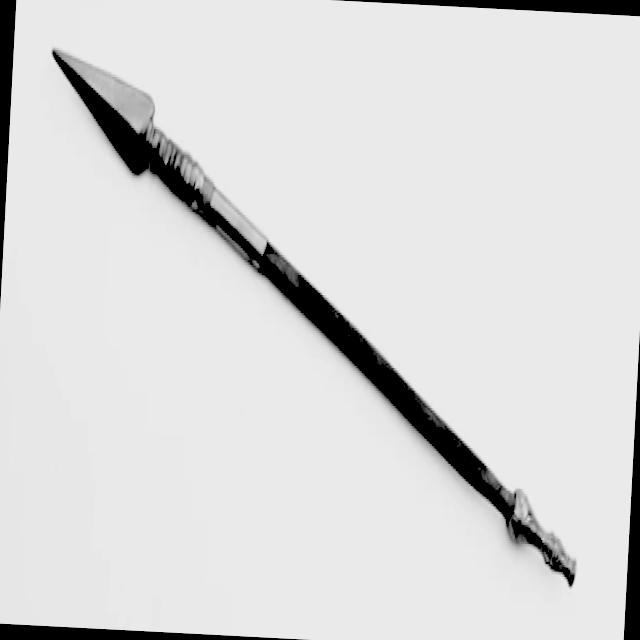spear: (10, 22, 610, 594)
